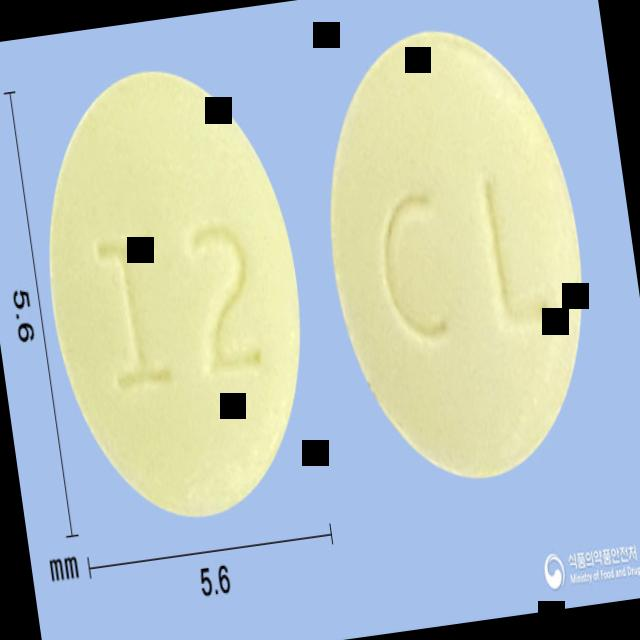Ciprofloxacin Tab- Samsung: (303, 14, 611, 496), (22, 53, 329, 532)
